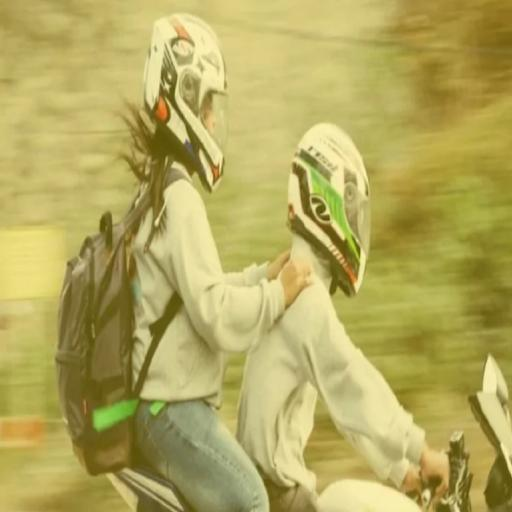helmet: (252, 84, 511, 499)
